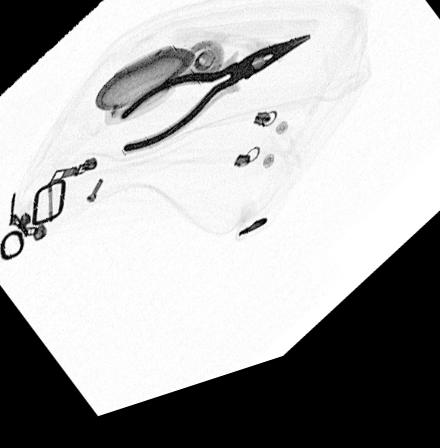Pliers: (115, 51, 313, 162)
